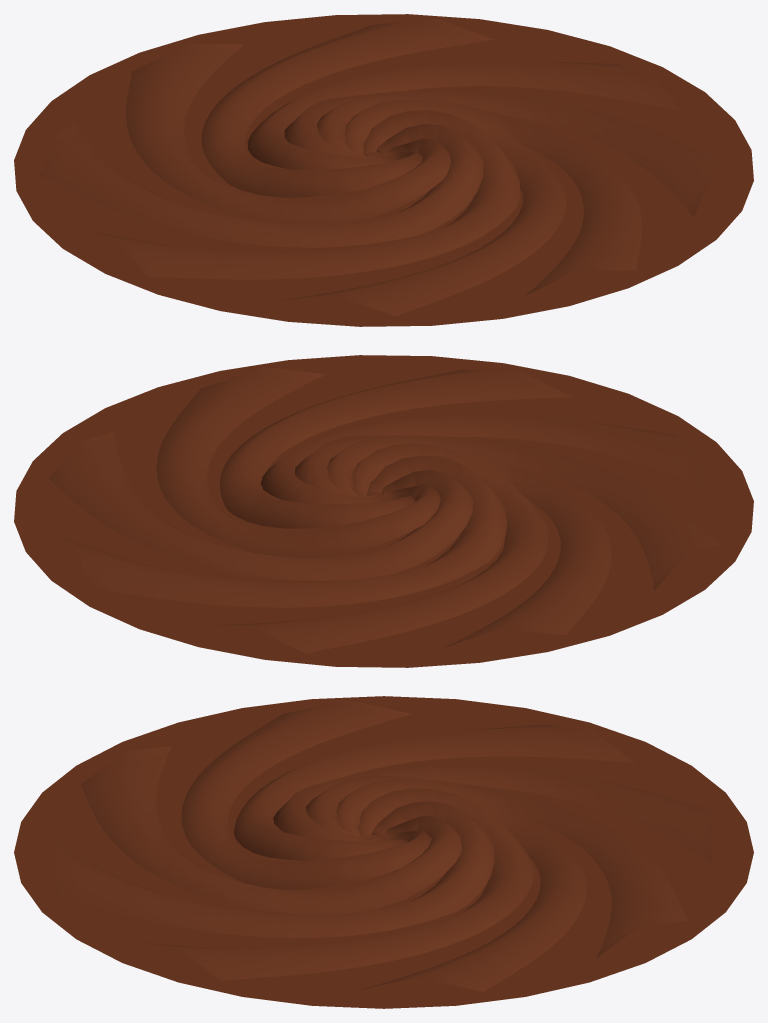
Rendered from souce_pool_spiral1.glb.
3 renders of one model, top to bottom at view 1: azimuth 30°, elevation 25°; view 2: azimuth 150°, elevation 25°; view 3: azimuth 270°, elevation 25°, orthographic.
Parts seen in each view (by area): view 1: spiral1, pool_base; view 2: spiral1, pool_base; view 3: spiral1, pool_base.
Part boxes in pixels (x1=…): spiral1: x1=40, y1=19, x2=727, y2=315; pool_base: x1=14, y1=14, x2=753, y2=326; spiral1: x1=48, y1=367, x2=719, y2=653; pool_base: x1=14, y1=355, x2=753, y2=667; spiral1: x1=55, y1=700, x2=712, y2=991; pool_base: x1=14, y1=696, x2=753, y2=1008.
Bounding box in the file's own units: 19.38 × 1.17 × 19.38.
Materials: 1 (1 with a texture image).
